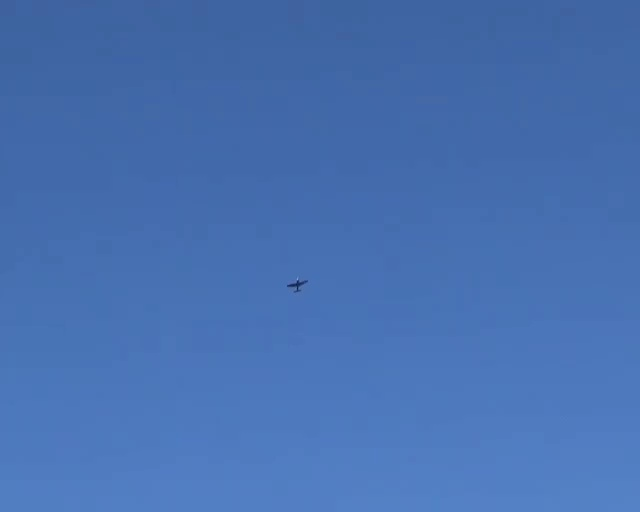AIRPLANE: (287, 276, 309, 292)
